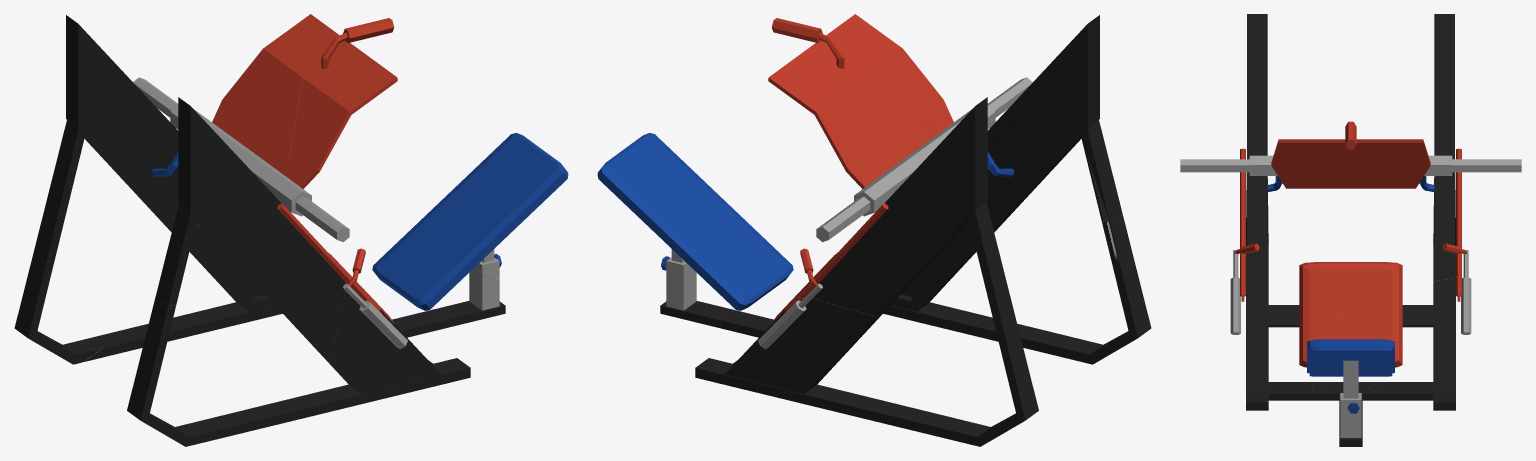
Rendered from May_tap_chan_DEST.fbx.
The picture shows the model from 3 angles, left to right: view 1: azimuth 30°, elevation 25°; view 2: azimuth 150°, elevation 25°; view 3: azimuth 270°, elevation 25°; orthographic projection. The views are drawn at different scales.
Visible parts, largest first — view 1: Mesh_mays_tap_chan.020_cell.005, Mesh_mays_tap_chan.003_cell.001, Mesh_mays_tap_chan.015_cell, Mesh_mays_tap_chan.010_cell, Mesh_mays_tap_chan.010_cell.001, Mesh_mays_tap_chan_cell, Mesh_mays_tap_chan_cell.001, Mesh_mays_tap_chan.002_cell, Mesh_mays_tap_chan.020_cell.002, Mesh_mays_tap_chan.002_cell.001, Mesh_mays_tap_chan.009_cell.001, Mesh_mays_tap_chan.003_cell (+8 smaller); view 2: Mesh_mays_tap_chan.003_cell.001, Mesh_mays_tap_chan.020_cell.005, Mesh_mays_tap_chan.010_cell, Mesh_mays_tap_chan.010_cell.001, Mesh_mays_tap_chan_cell.001, Mesh_mays_tap_chan_cell, Mesh_mays_tap_chan.003_cell, Mesh_mays_tap_chan.015_cell, Mesh_mays_tap_chan.002_cell.001, Mesh_mays_tap_chan.002_cell, Mesh_mays_tap_chan.009_cell, Mesh_mays_tap_chan.015_cell.001 (+8 smaller); view 3: Mesh_mays_tap_chan.001_cell, Mesh_mays_tap_chan.010_cell, Mesh_mays_tap_chan.003_cell.001, Mesh_mays_tap_chan.020_cell.005, Mesh_mays_tap_chan.020_cell.002, Mesh_mays_tap_chan.003_cell, Mesh_mays_tap_chan.001_cell.001, Mesh_mays_tap_chan.010_cell.001, Mesh_mays_tap_chan_cell.001, Mesh_mays_tap_chan.004_cell, Mesh_mays_tap_chan.009_cell, Mesh_mays_tap_chan.009_cell.001 (+12 smaller).
Part boxes in pixels (x1,y1,x2,y2): Mesh_mays_tap_chan.020_cell.005: (178,97,346,360); Mesh_mays_tap_chan.003_cell.001: (66,15,199,230); Mesh_mays_tap_chan.015_cell: (127,295,470,446); Mesh_mays_tap_chan.010_cell: (212,14,328,176); Mesh_mays_tap_chan.010_cell.001: (286,27,397,188); Mesh_mays_tap_chan_cell: (372,214,516,310); Mesh_mays_tap_chan_cell.001: (427,133,568,228); Mesh_mays_tap_chan.002_cell: (14,120,102,364); Mesh_mays_tap_chan.020_cell.002: (319,291,441,393); Mesh_mays_tap_chan.002_cell.001: (38,302,282,362); Mesh_mays_tap_chan.009_cell.001: (231,144,349,242); Mesh_mays_tap_chan.003_cell: (166,225,274,311); Mesh_mays_tap_chan.003_cell.001: (813,97,987,316); Mesh_mays_tap_chan.020_cell.005: (945,15,1099,277); Mesh_mays_tap_chan.010_cell: (768,64,938,188); Mesh_mays_tap_chan.010_cell.001: (786,14,953,132); Mesh_mays_tap_chan_cell.001: (597,133,705,258); Mesh_mays_tap_chan_cell: (683,182,793,310); Mesh_mays_tap_chan.003_cell: (724,298,885,393); Mesh_mays_tap_chan.015_cell: (883,214,1151,364); Mesh_mays_tap_chan.002_cell.001: (695,358,1013,446); Mesh_mays_tap_chan.002_cell: (965,202,1038,429); Mesh_mays_tap_chan.009_cell: (816,150,927,242); Mesh_mays_tap_chan.015_cell.001: (1081,120,1122,221); Mesh_mays_tap_chan.001_cell: (1299,262,1402,345); Mesh_mays_tap_chan.010_cell: (1283,139,1430,188); Mesh_mays_tap_chan.003_cell.001: (1434,14,1454,280); Mesh_mays_tap_chan.020_cell.005: (1247,14,1267,251); Mesh_mays_tap_chan.020_cell.002: (1247,251,1267,390); Mesh_mays_tap_chan.003_cell: (1434,278,1454,390); Mesh_mays_tap_chan.001_cell.001: (1299,301,1402,367); Mesh_mays_tap_chan.010_cell.001: (1271,139,1393,184); Mesh_mays_tap_chan_cell.001: (1307,339,1394,366); Mesh_mays_tap_chan.004_cell: (1268,385,1433,400); Mesh_mays_tap_chan.009_cell: (1424,155,1521,175); Mesh_mays_tap_chan.009_cell.001: (1180,155,1277,175).
Bounding box in the file's own units: 15.57 × 10.77 × 11.76.
